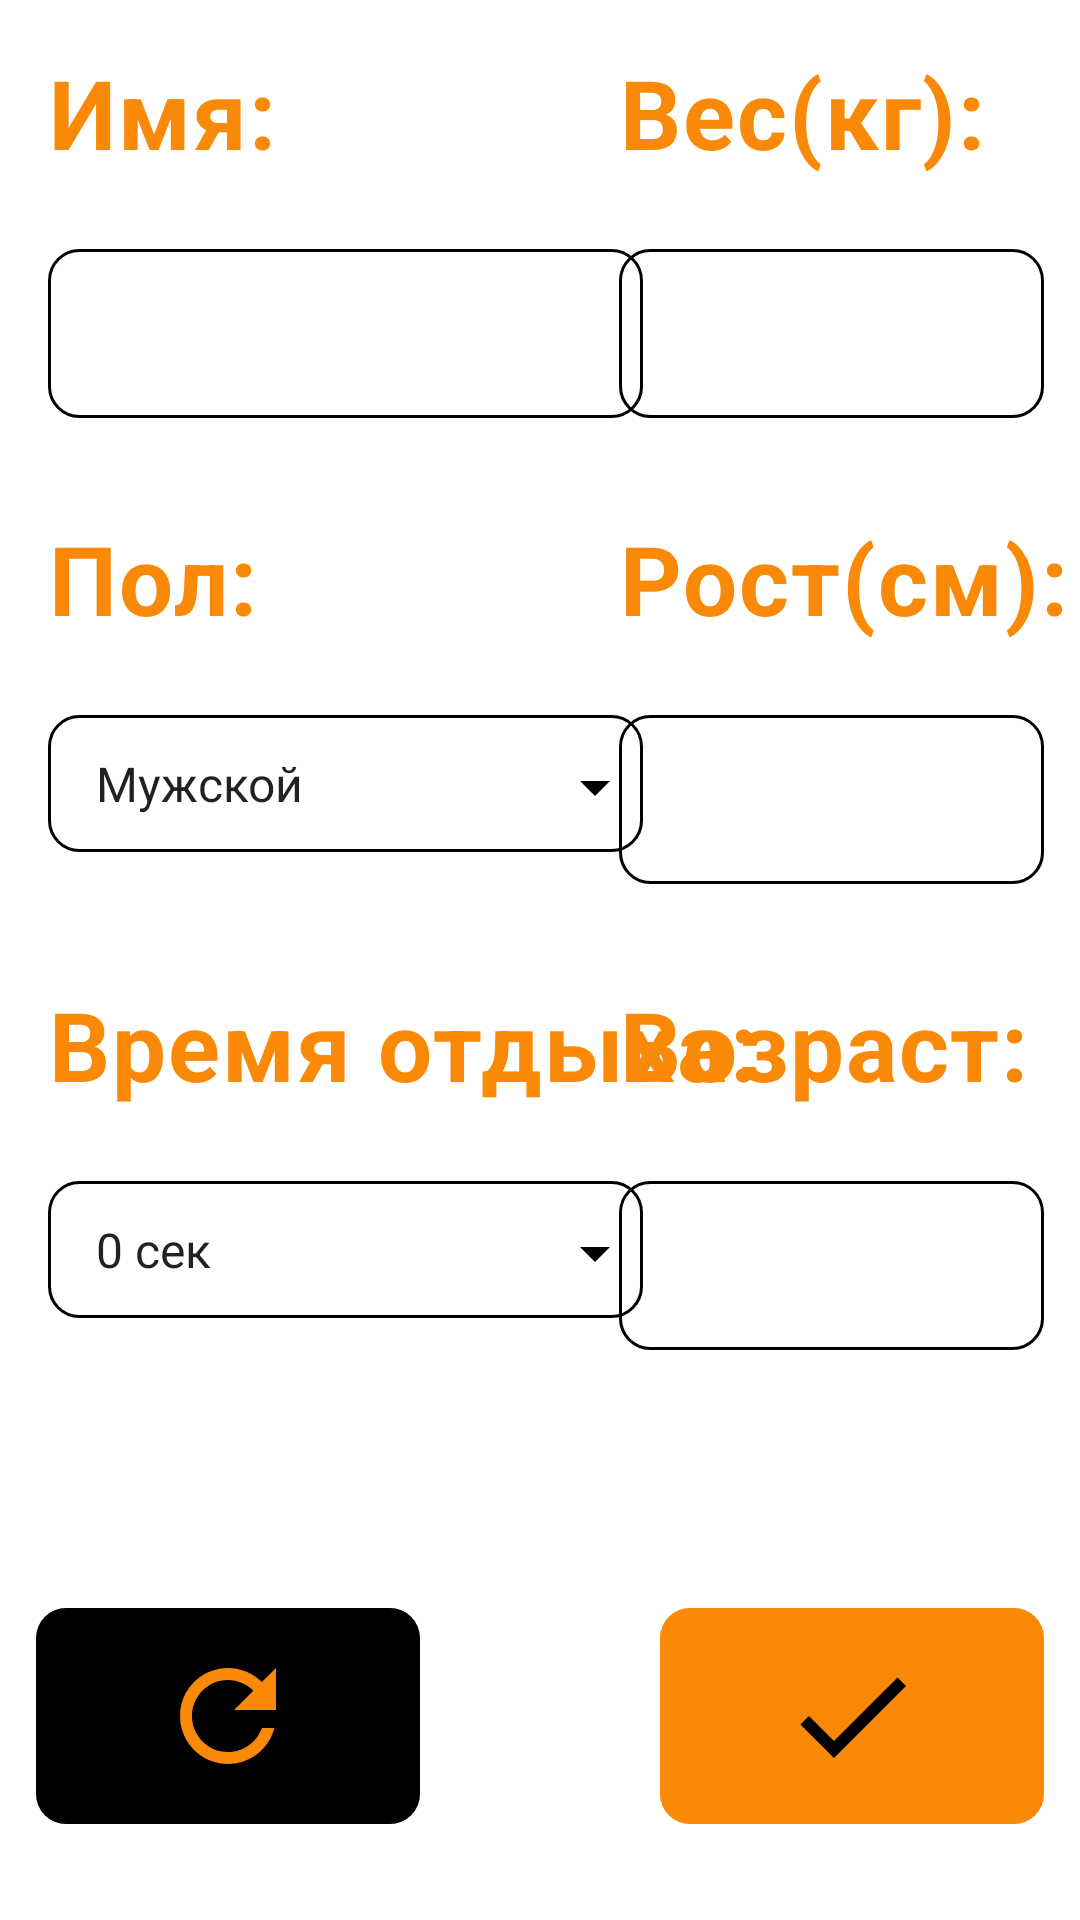

Icon bounding boxes for this 1080x1920 phone screenshot, format (x1, y1, x2, y2):
arrow drop down: (580, 781, 610, 796), (580, 1247, 610, 1262)
